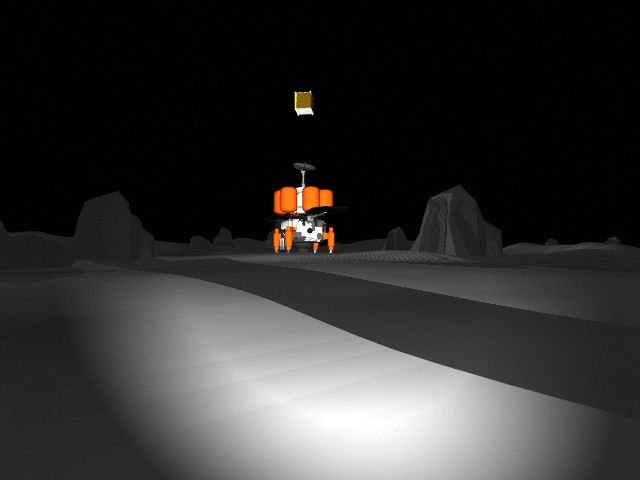cubesat: (287, 86, 325, 119)
